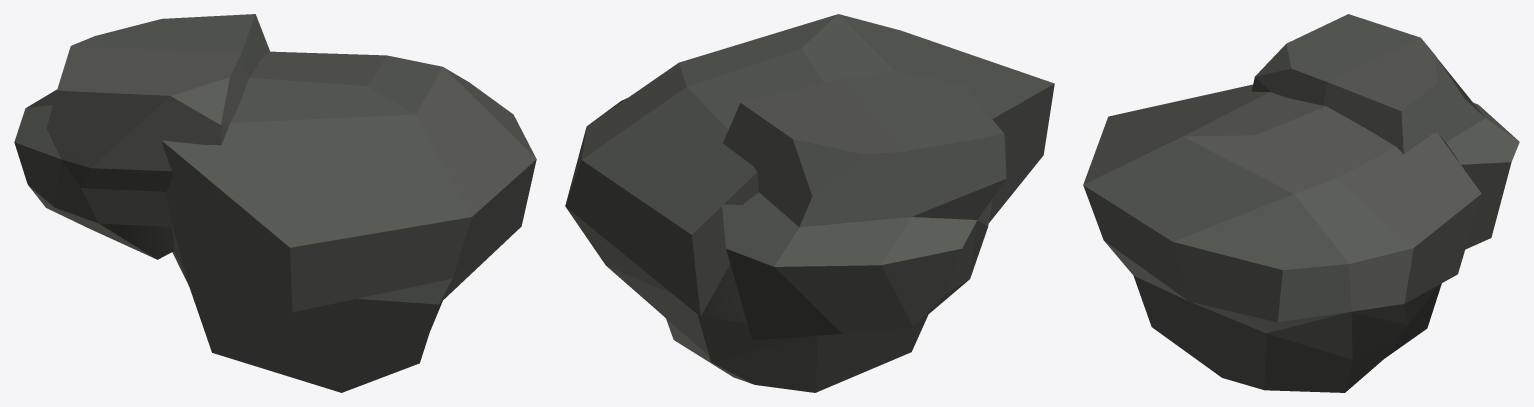
The model's file is Rock_Chunk_02.fbx.
3 views of the same model, side by side, from view 1: azimuth 30°, elevation 25°; view 2: azimuth 150°, elevation 25°; view 3: azimuth 270°, elevation 25° (orthographic). The views are drawn at different scales.
Visible parts, largest first — view 1: Rock_Chunk_02; view 2: Rock_Chunk_02; view 3: Rock_Chunk_02.
Part boxes in pixels (x1,y1,x2,y2): Rock_Chunk_02: (14, 14, 536, 392); Rock_Chunk_02: (565, 14, 1054, 392); Rock_Chunk_02: (1083, 14, 1519, 392).
Size of the model in its own units: 326 by 208 by 333.
